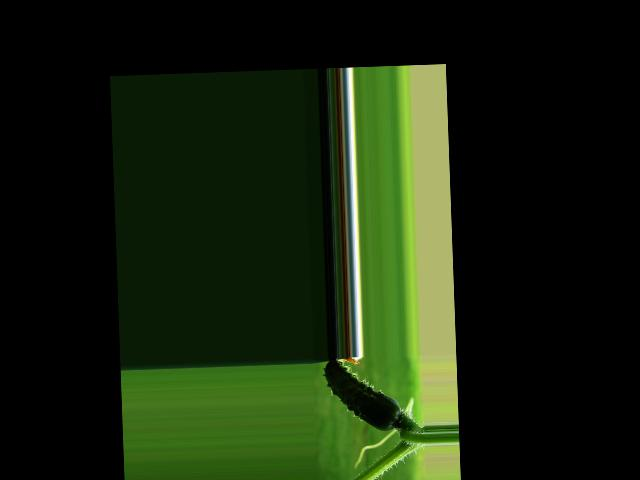cucumber: (323, 358, 400, 434)
